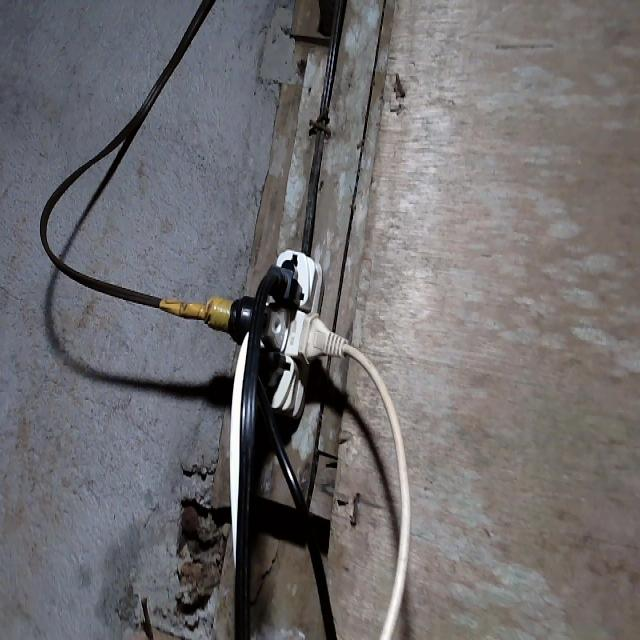-: (164, 246, 359, 422)
